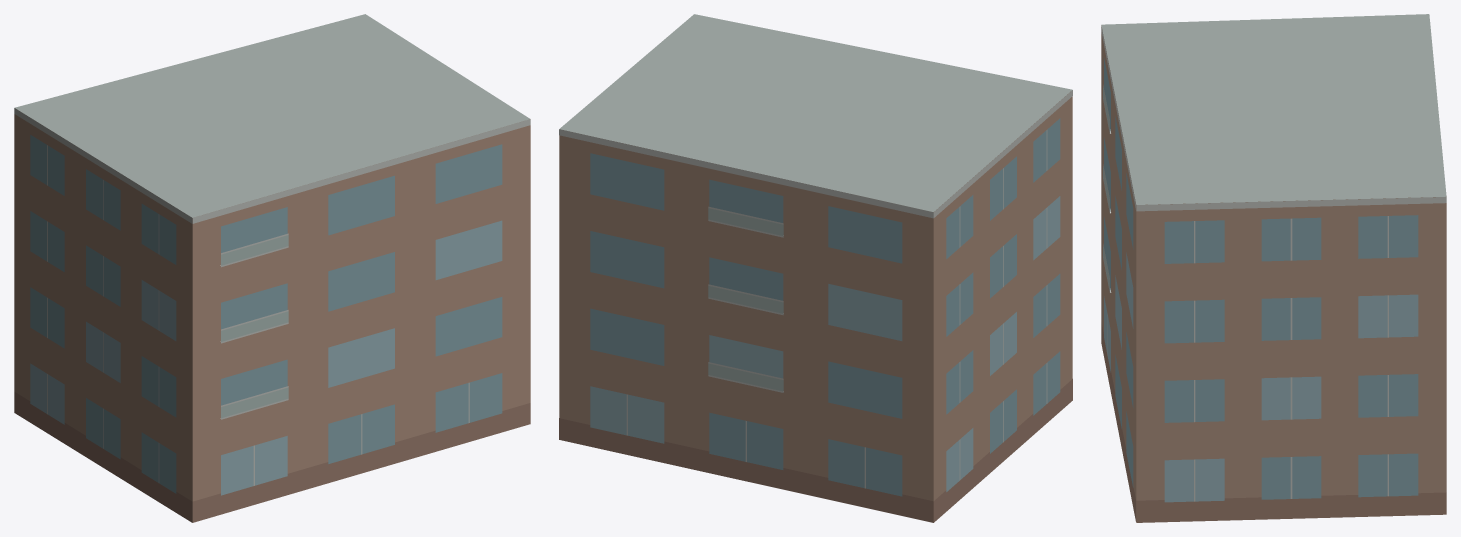
File: survey-upis-32724169.glb
3 views of the same model, side by side, from view 1: azimuth 30°, elevation 25°; view 2: azimuth 150°, elevation 25°; view 3: azimuth 270°, elevation 25° (orthographic). The views are drawn at different scales.
Visible parts, largest first — view 1: survey-upis-32724169.tmp; view 2: survey-upis-32724169.tmp; view 3: survey-upis-32724169.tmp.
Boxes of the visible parts, box(x1,y1,x2,y2) form: survey-upis-32724169.tmp: box(14, 14, 530, 522); survey-upis-32724169.tmp: box(559, 14, 1072, 522); survey-upis-32724169.tmp: box(1101, 14, 1446, 522).
Bounding box in the file's own units: 15.73 × 12.2 × 12.02.
